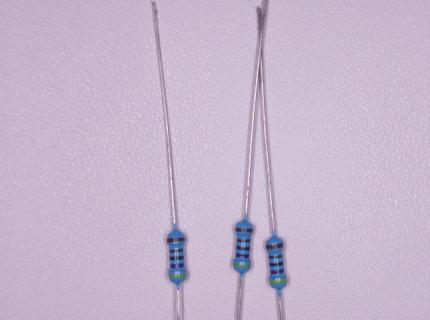Black band: (270, 261, 284, 267), (236, 245, 250, 250), (170, 255, 184, 260)
Brown band: (266, 243, 284, 250), (167, 237, 185, 243), (235, 227, 253, 232), (169, 249, 183, 253), (236, 238, 250, 242), (269, 254, 283, 258)
Violet band: (270, 268, 285, 274), (170, 263, 184, 268), (235, 253, 249, 258)
Yellow band: (269, 279, 287, 284), (169, 273, 187, 278), (234, 263, 251, 267)
